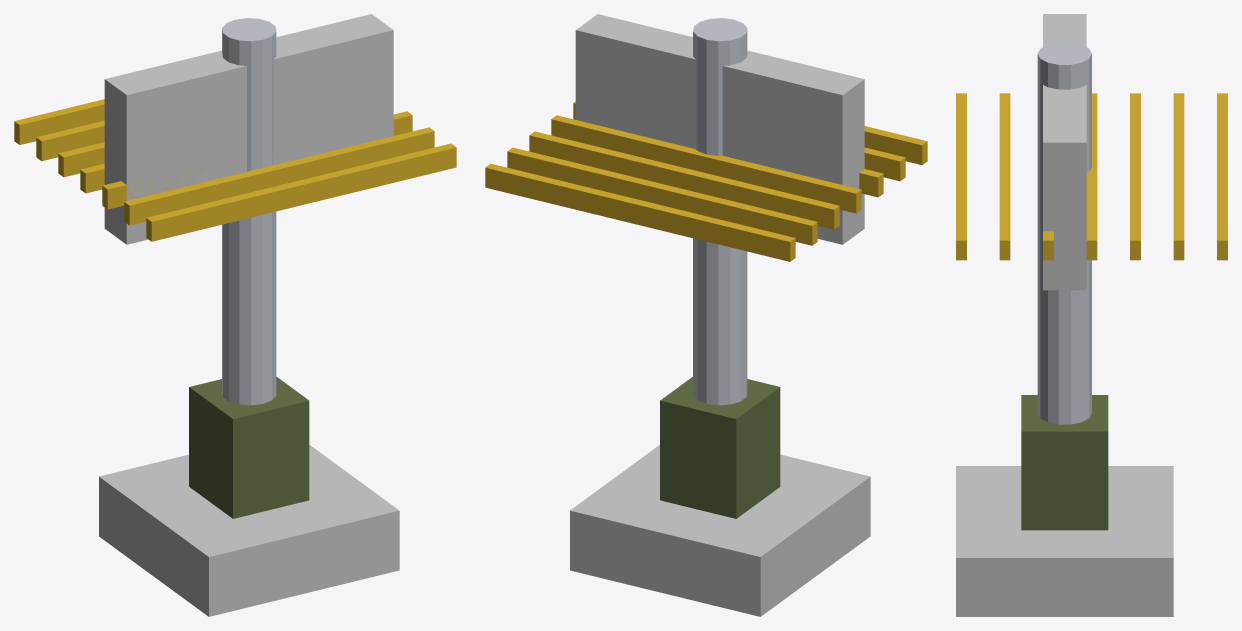
Rendered from passive_radar.obj.
3 views of the same model, side by side, from view 1: azimuth 30°, elevation 25°; view 2: azimuth 150°, elevation 25°; view 3: azimuth 270°, elevation 25° (orthographic).
Visible parts, largest first — view 1: passive_radar; view 2: passive_radar; view 3: passive_radar.
Part boxes in pixels (<box>): passive_radar: <box>14,14,456,616</box>; passive_radar: <box>485,14,927,616</box>; passive_radar: <box>956,14,1227,616</box>.
Bounding box in the file's own units: 0.64 × 1.05 × 0.5.
